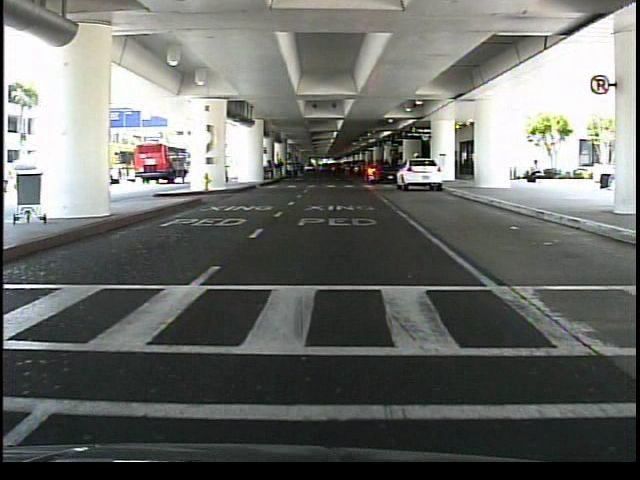person: (519, 154, 546, 190)
